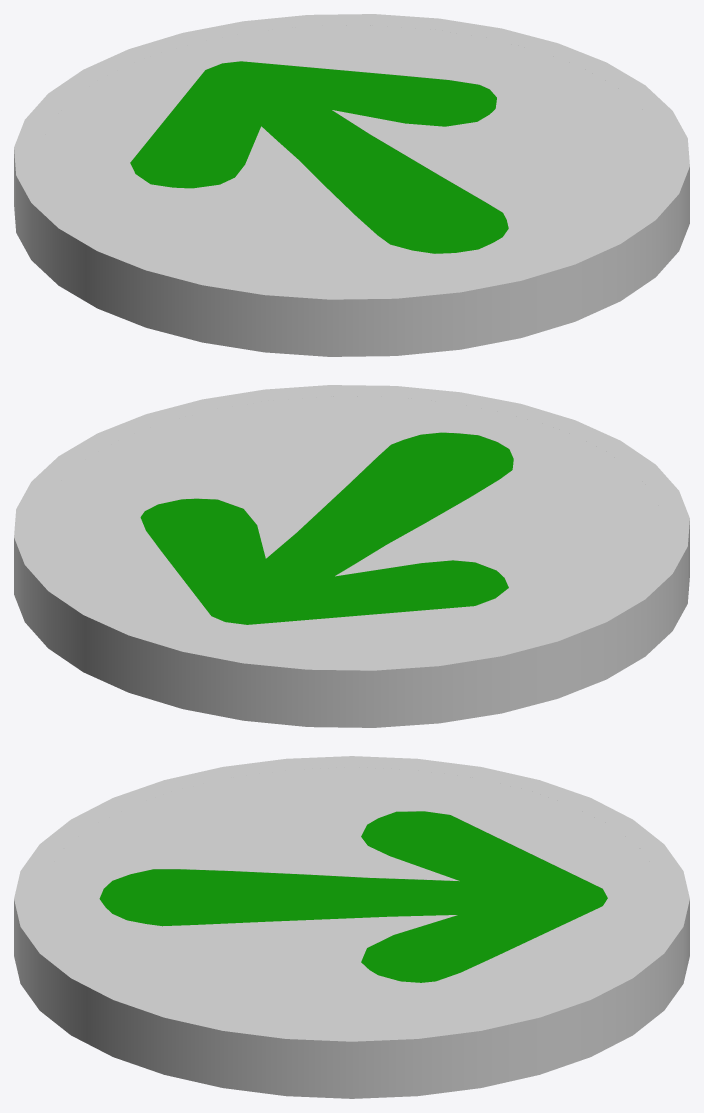
The model's file is rise token.fbx.
3 renders of one model, top to bottom at view 1: azimuth 30°, elevation 25°; view 2: azimuth 150°, elevation 25°; view 3: azimuth 270°, elevation 25°, orthographic.
Visible parts, largest first — view 1: Cylinder.007; view 2: Cylinder.007; view 3: Cylinder.007.
Boxes of the visible parts, x1=… form: Cylinder.007: x1=14, y1=14, x2=689, y2=356; Cylinder.007: x1=14, y1=385, x2=689, y2=727; Cylinder.007: x1=14, y1=756, x2=689, y2=1098.
Size of the model in its own units: 66.18 by 6.18 by 66.18.
